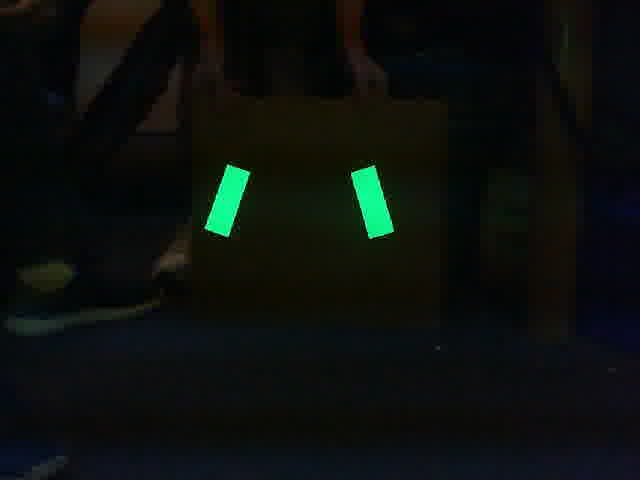target: (202, 162, 395, 241)
